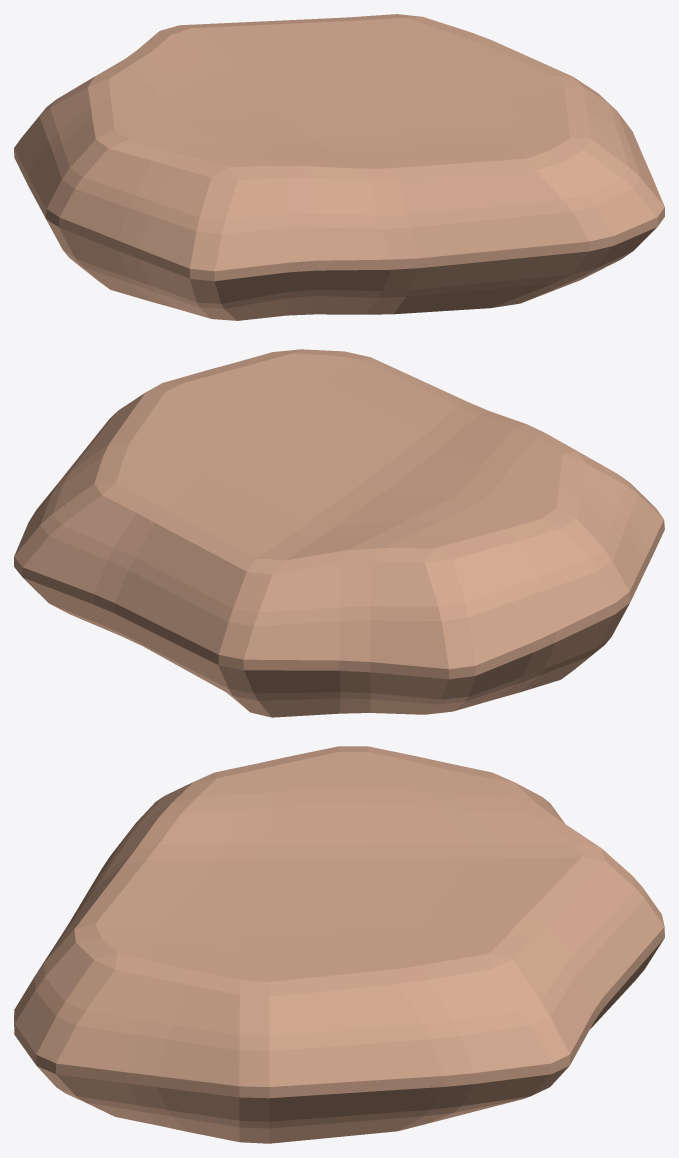
The model's file is rock_4_garden.fbx.
3 renders of one model, top to bottom at view 1: azimuth 30°, elevation 25°; view 2: azimuth 150°, elevation 25°; view 3: azimuth 270°, elevation 25°, orthographic. The views are drawn at different scales.
Parts seen in each view (by area): view 1: rock_4_garden; view 2: rock_4_garden; view 3: rock_4_garden.
Part boxes in pixels (x1,y1,x2,y2): rock_4_garden: (14, 14, 664, 320); rock_4_garden: (14, 349, 664, 717); rock_4_garden: (14, 746, 664, 1143).
Bounding box in the file's own units: 66.76 × 19.84 × 62.84.
